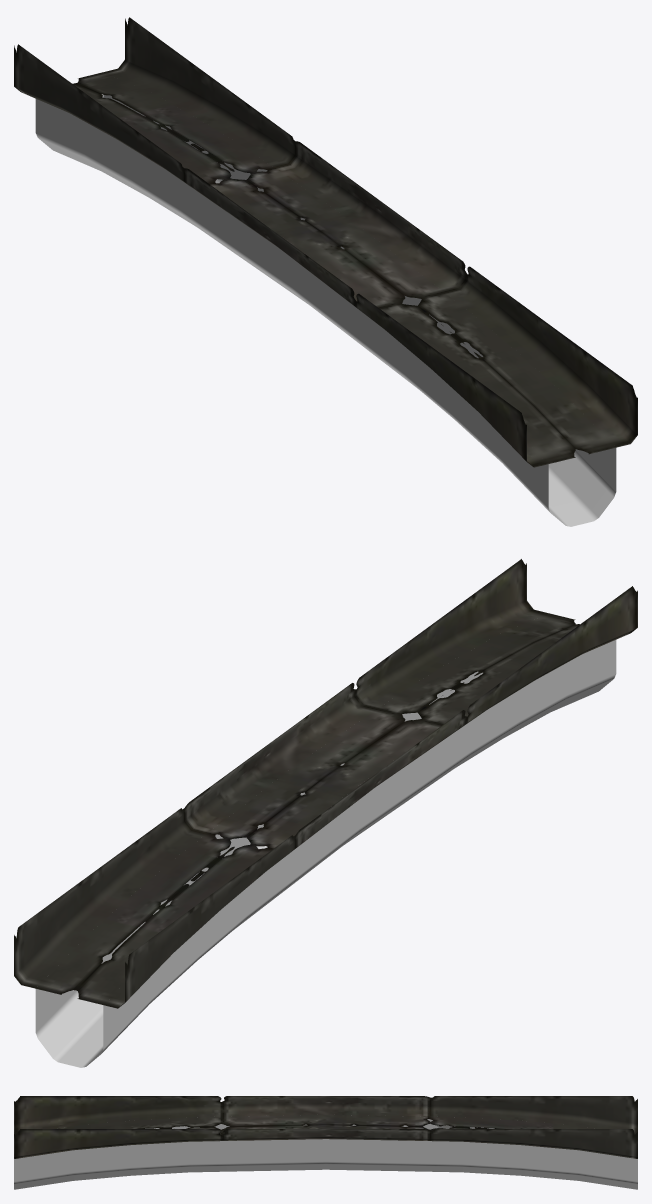
3 views of the same model, one above another, from view 1: azimuth 30°, elevation 25°; view 2: azimuth 150°, elevation 25°; view 3: azimuth 270°, elevation 25° (orthographic). The views are drawn at different scales.
Visible parts, largest first — view 1: SM_Greathall_Wall_8x10_06_LOD0; view 2: SM_Greathall_Wall_8x10_06_LOD0; view 3: SM_Greathall_Wall_8x10_06_LOD0.
Boxes of the visible parts, bbox=[...] form: SM_Greathall_Wall_8x10_06_LOD0: bbox=[14, 17, 637, 526]; SM_Greathall_Wall_8x10_06_LOD0: bbox=[14, 559, 637, 1067]; SM_Greathall_Wall_8x10_06_LOD0: bbox=[14, 1096, 637, 1189].
Bounding box in the file's own units: 1 × 1.04 × 8.
